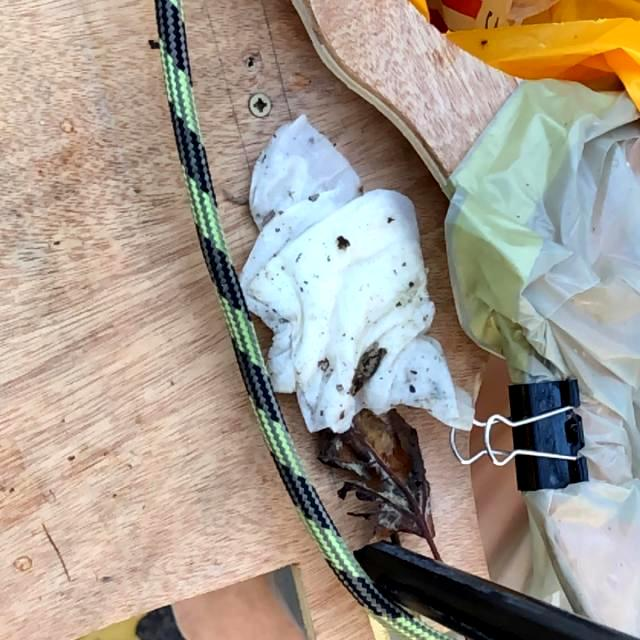Paper: (237, 112, 477, 434)
